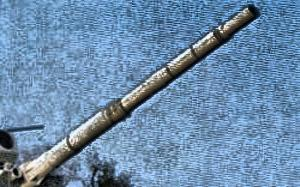tanks: (1, 8, 258, 187)
